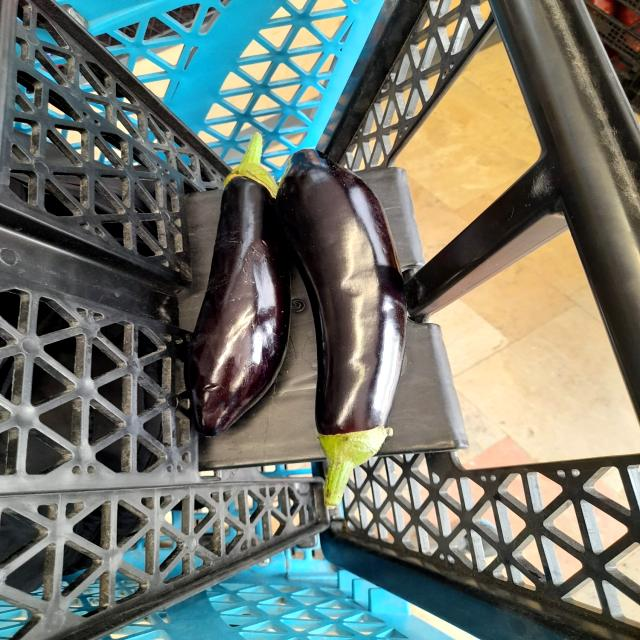eggplant: (272, 129, 406, 515), (168, 120, 290, 440)
